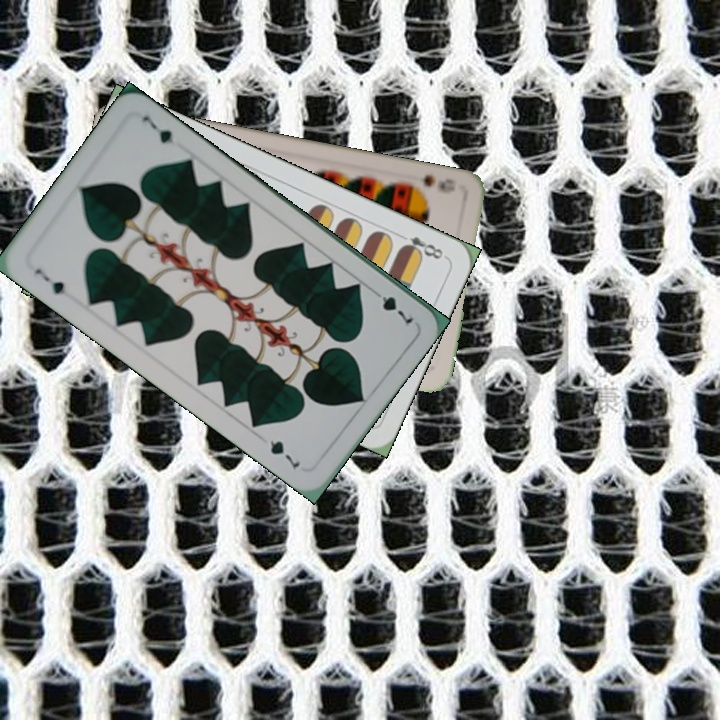E8: (393, 229, 449, 262)
G7: (366, 284, 416, 327), (30, 264, 73, 301)
S9: (402, 170, 459, 196)
